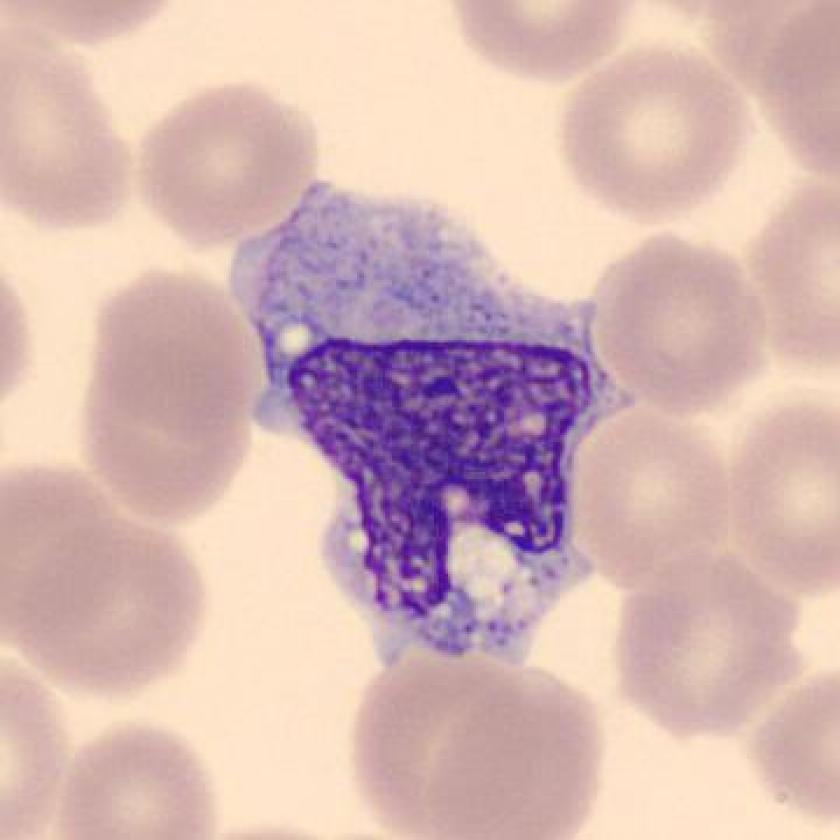monocyte: (206, 149, 657, 693)
